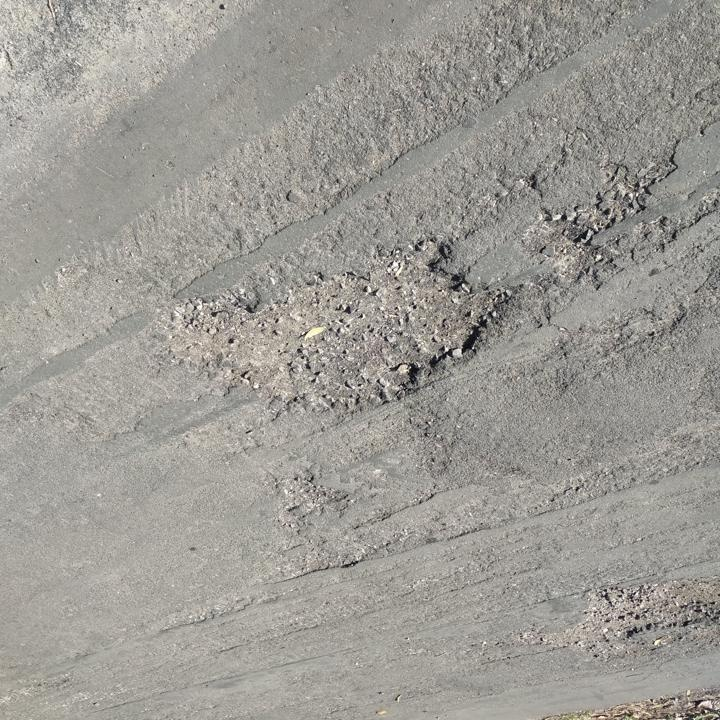pothole: (147, 232, 518, 428), (511, 578, 718, 668), (513, 210, 619, 289), (268, 471, 353, 520)
